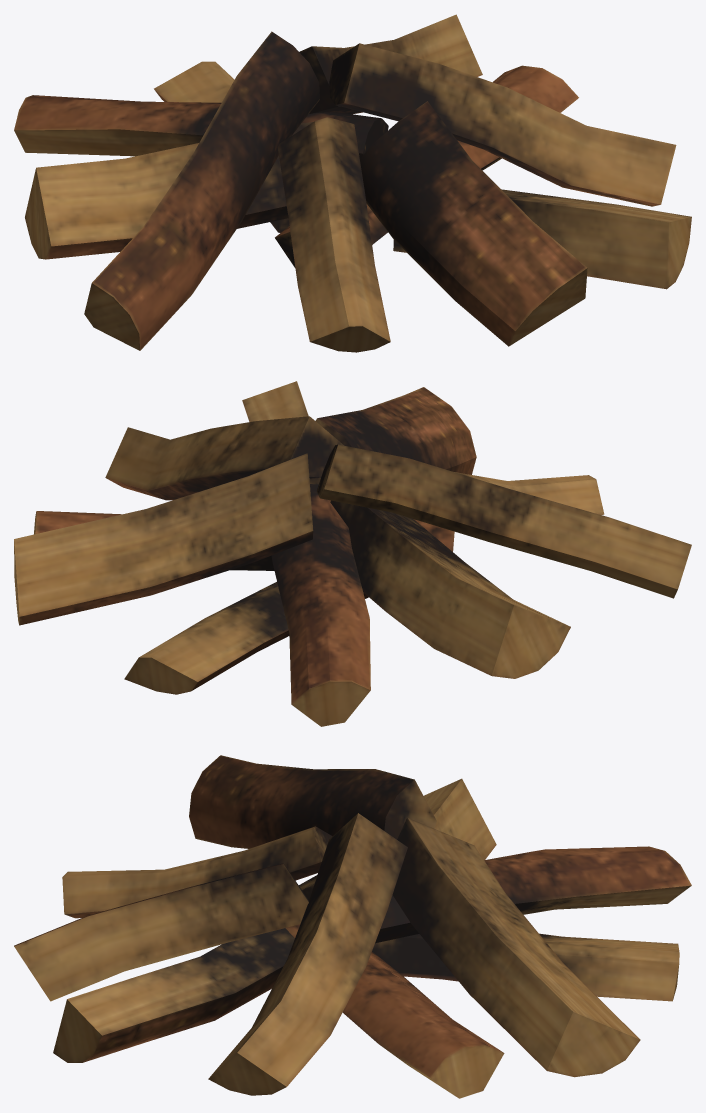
Rendered from sb_obj_outdoor035_bonfire01.fbx.
The picture shows the model from 3 angles, top to bottom: view 1: azimuth 30°, elevation 25°; view 2: azimuth 150°, elevation 25°; view 3: azimuth 270°, elevation 25°; orthographic projection. The views are drawn at different scales.
Visible parts, largest first — view 1: sb_obj_outdoor035_bonfire01; view 2: sb_obj_outdoor035_bonfire01; view 3: sb_obj_outdoor035_bonfire01.
Part boxes in pixels (x1,y1,x2,y2): sb_obj_outdoor035_bonfire01: (14, 14, 691, 352); sb_obj_outdoor035_bonfire01: (14, 381, 691, 726); sb_obj_outdoor035_bonfire01: (14, 755, 691, 1098).
Size of the model in its own units: 0.5612 by 0.1704 by 0.5637.
